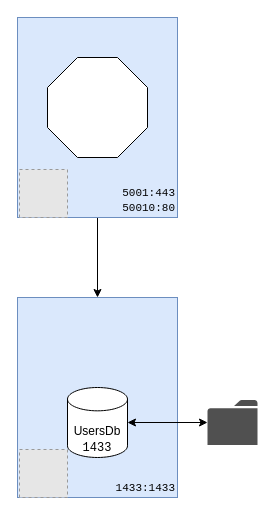
Image size: 275x515. Some labels were removed from this diagram. Grey dashed boxes stand in for pictures. Each missing label, with the centre of its shape:
"Host" goes at (x=232, y=422).
"Users Api :80 :443" goes at (x=97, y=107).
